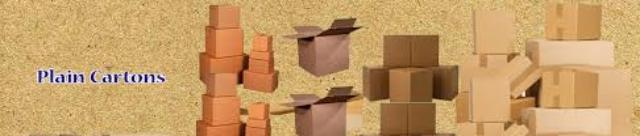cardboard paper: (280, 14, 362, 76), (291, 87, 356, 136), (537, 67, 602, 108), (545, 3, 600, 40), (474, 11, 515, 54), (381, 103, 435, 134), (383, 36, 437, 66), (388, 68, 432, 101)
